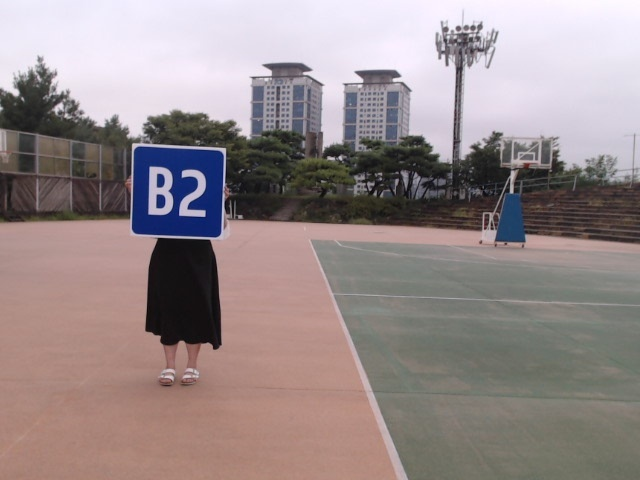delivery_b2: (130, 146, 226, 239)
